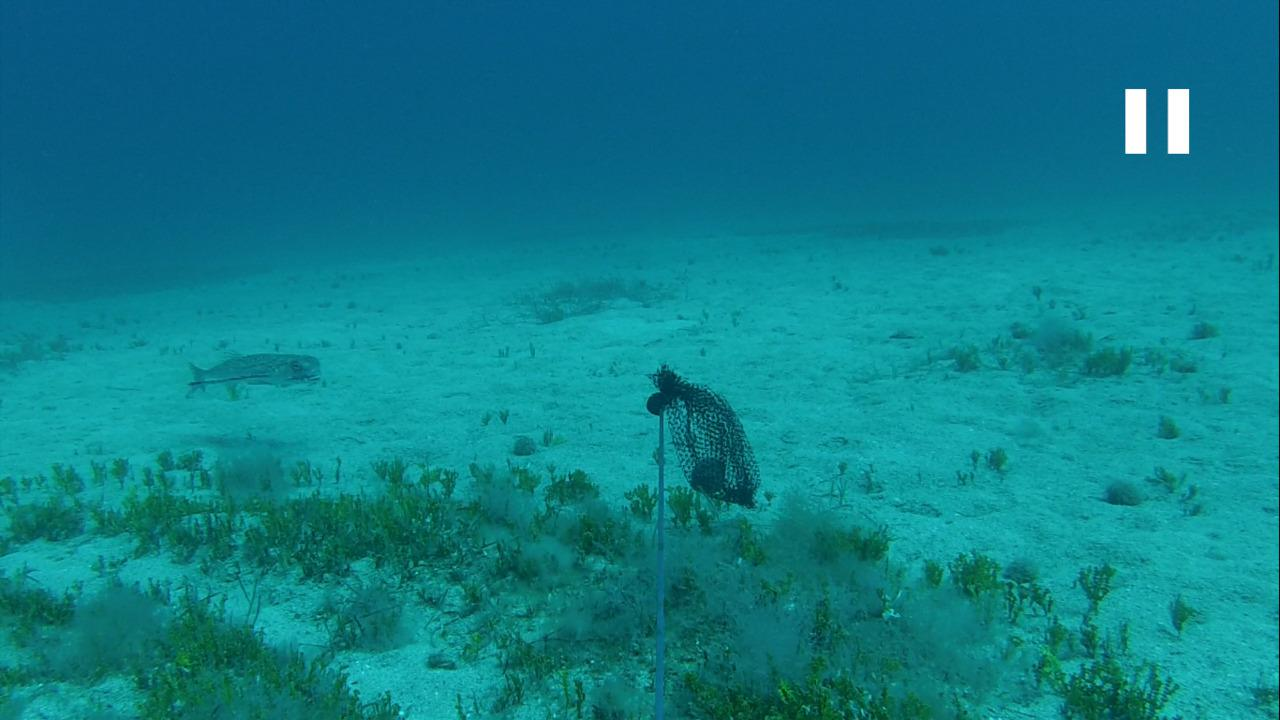dactylopterus: (174, 348, 331, 399)
